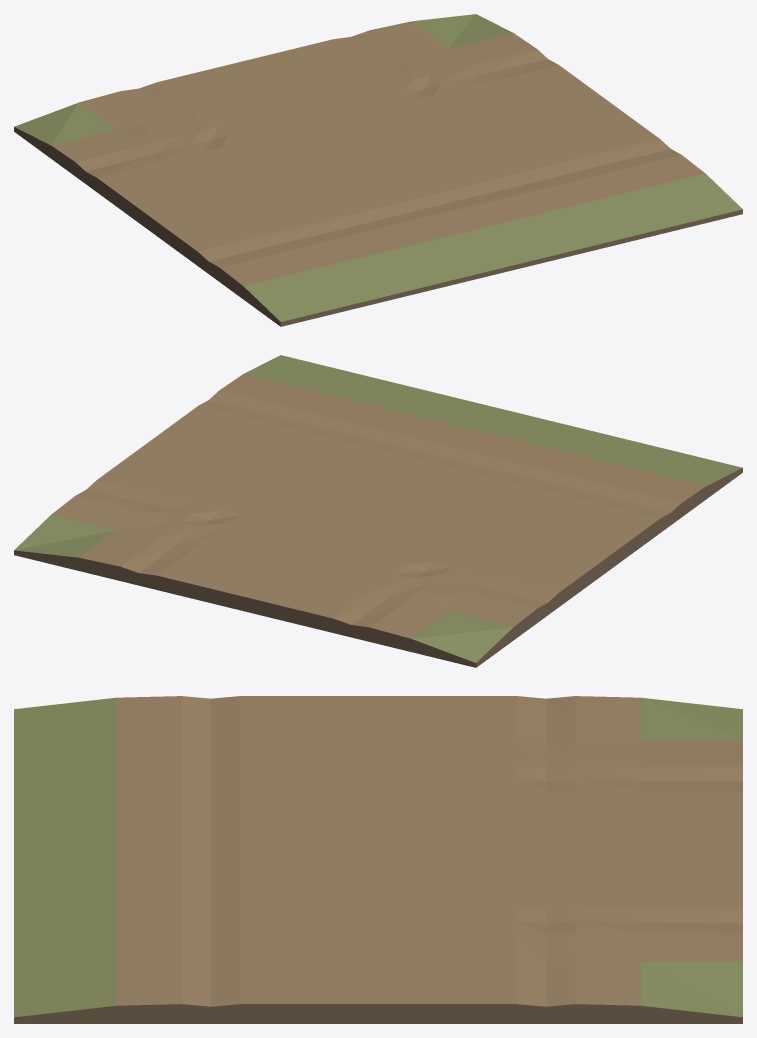
The picture shows the model from 3 angles, top to bottom: view 1: azimuth 30°, elevation 25°; view 2: azimuth 150°, elevation 25°; view 3: azimuth 270°, elevation 25°; orthographic projection. The views are drawn at different scales.
Parts seen in each view (by area): view 1: village-soil-road-t-junction-2m-01; view 2: village-soil-road-t-junction-2m-01; view 3: village-soil-road-t-junction-2m-01.
Boxes of the visible parts, box(x1,y1,x2,y2) form: village-soil-road-t-junction-2m-01: box(14, 14, 742, 326); village-soil-road-t-junction-2m-01: box(14, 355, 742, 667); village-soil-road-t-junction-2m-01: box(14, 696, 742, 1023).
Bounding box in the file's own units: 2 × 0.06 × 2.
